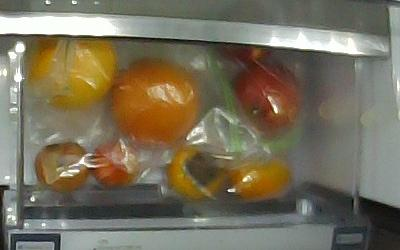apple_vinyl: (231, 62, 302, 139), (217, 43, 272, 63)
grapefruit_vinyl: (111, 58, 200, 148), (28, 37, 117, 111)
persimmon_vinyl: (169, 145, 223, 200), (228, 158, 293, 202)
prune_vinyl: (36, 142, 89, 192), (91, 140, 144, 189)
